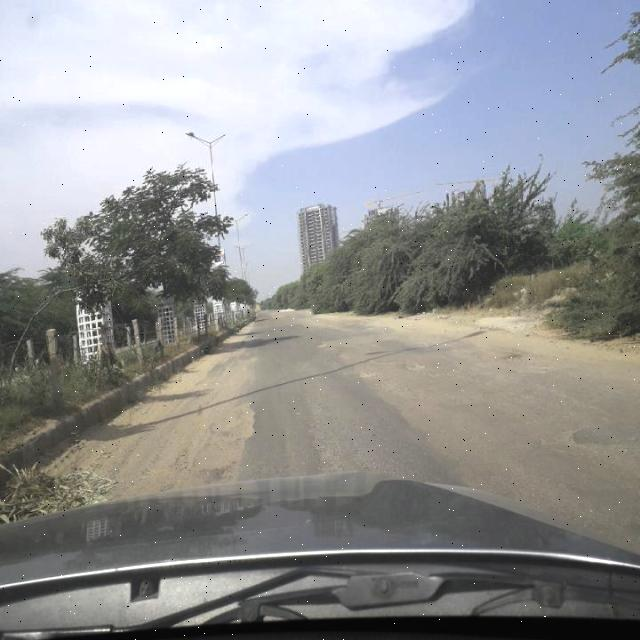D20: (292, 390, 402, 466)
D40: (184, 383, 261, 485), (471, 336, 559, 374), (322, 333, 348, 354), (402, 352, 428, 372), (356, 358, 380, 379)
